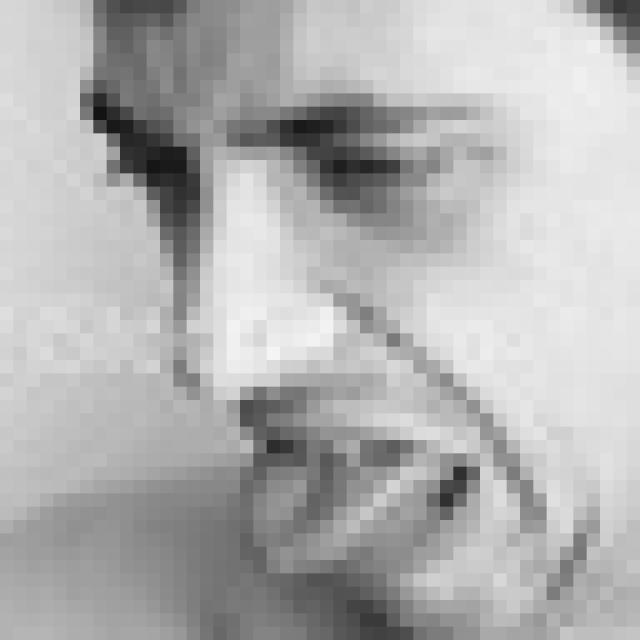disgust: (99, 87, 608, 640)
